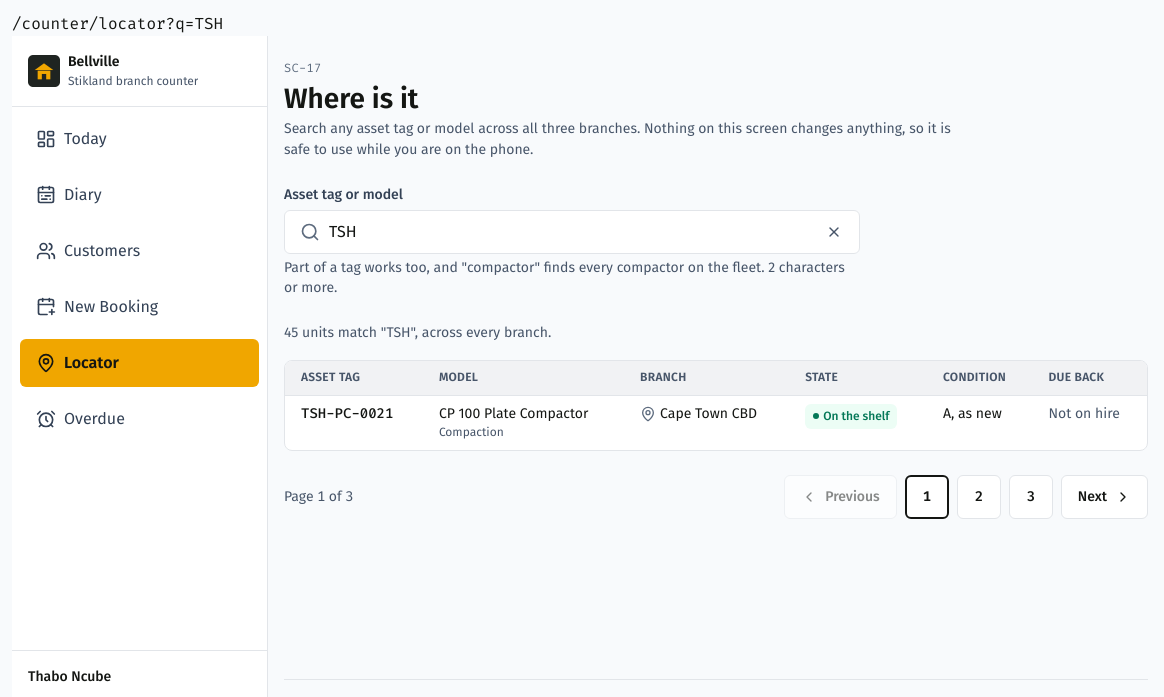
Test case: paging › shows the page controls from what the server says, and asks for the next page
Expected: the message "Page 1 of 3" is shown, [284, 486, 353, 507]
Click the button "Next". click: (1104, 497)
box: [1061, 475, 1148, 519]
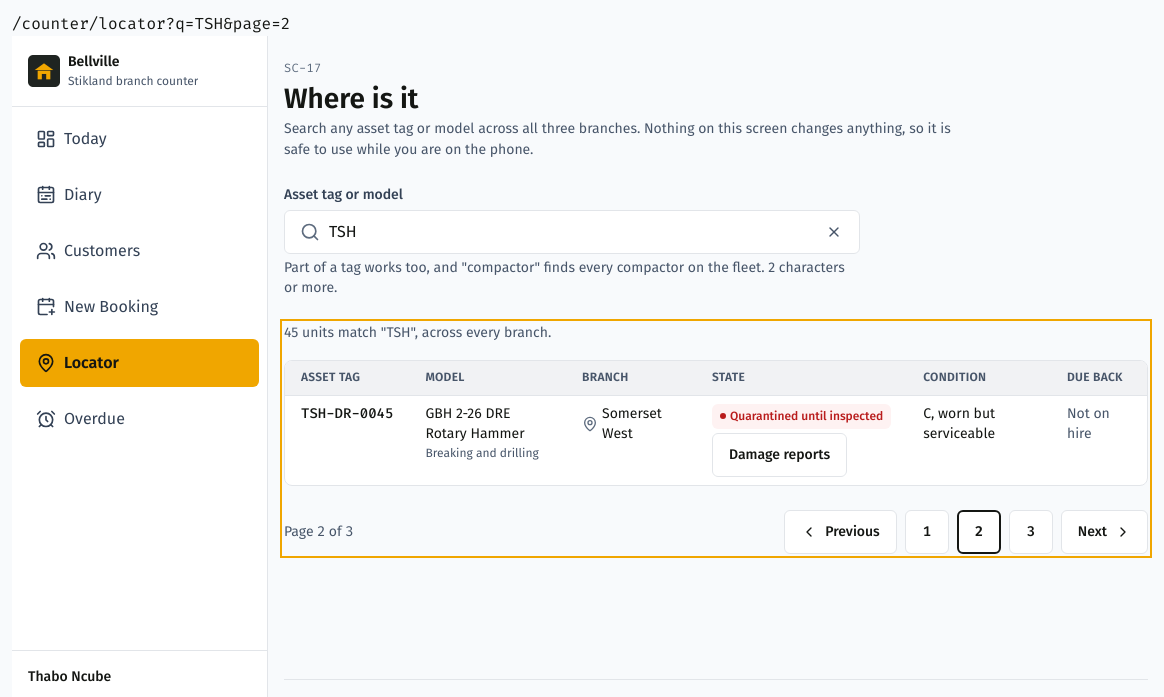
Now the row "TSH-DR-0045" is shown, box [285, 396, 1147, 485]
Now the text with test id "current-address" reads "/counter/locator?q=TSH&page=2", box [12, 13, 290, 34]
